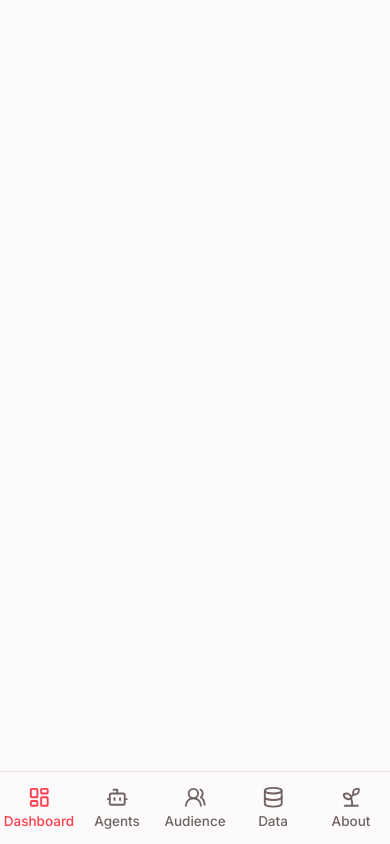
MobileNav fan-up popover › hides a fan tab's pills until the tab is tapped
Click the button "Audience" at (195, 808), box [156,772,234,843]
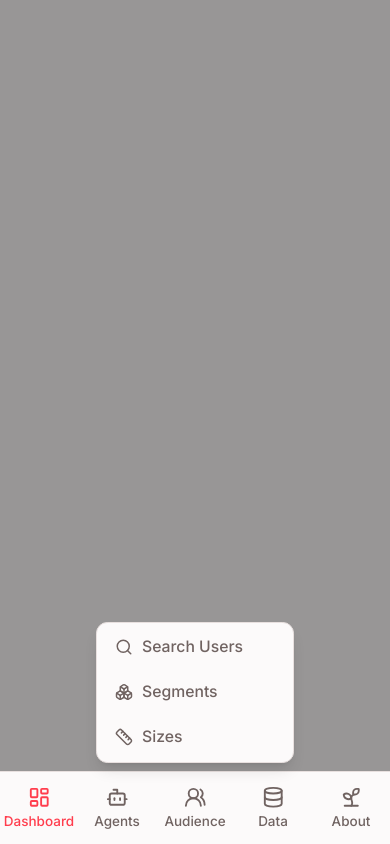
Check: the link "Search Users" is shown, box [115,637,243,656]
Check: the link "Segments" is shown, box [115,682,218,701]
Check: the link "Sizes" is shown, box [115,727,182,746]
